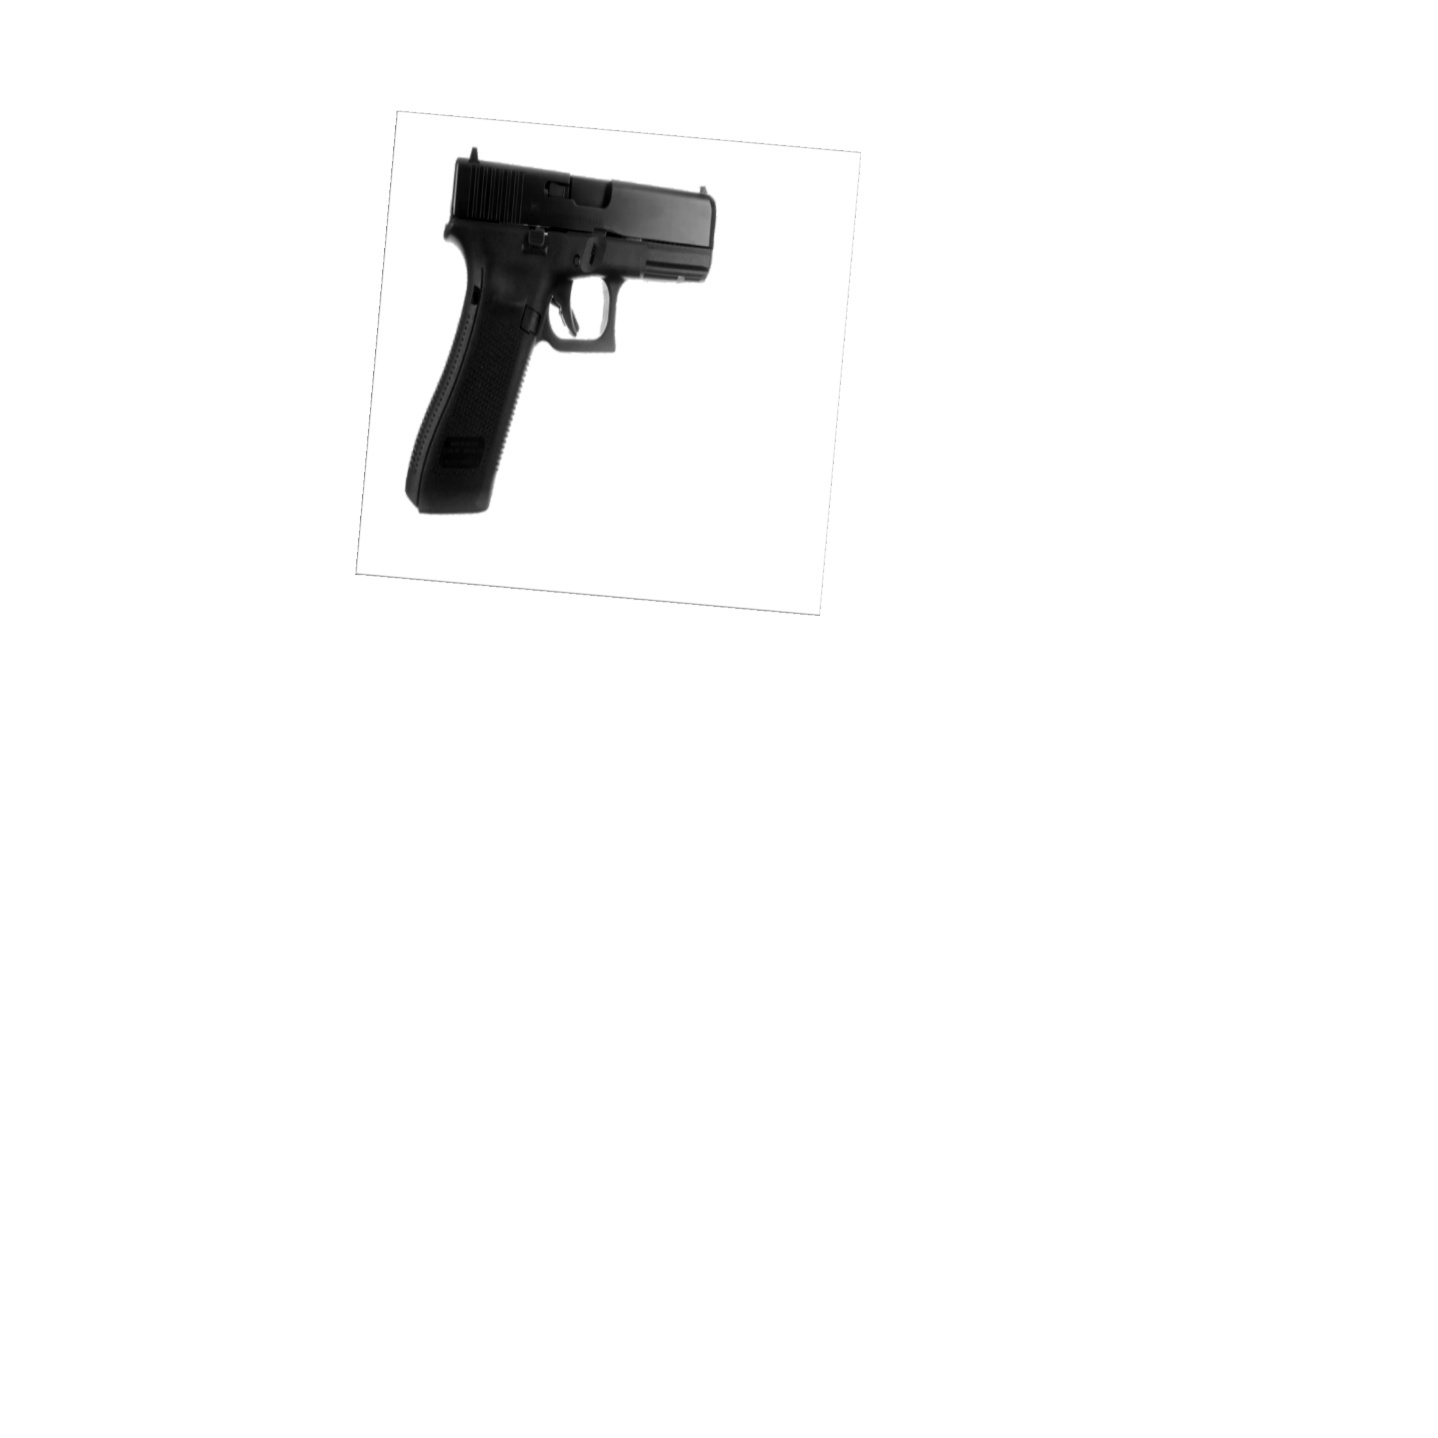gun: (396, 134, 733, 532)
